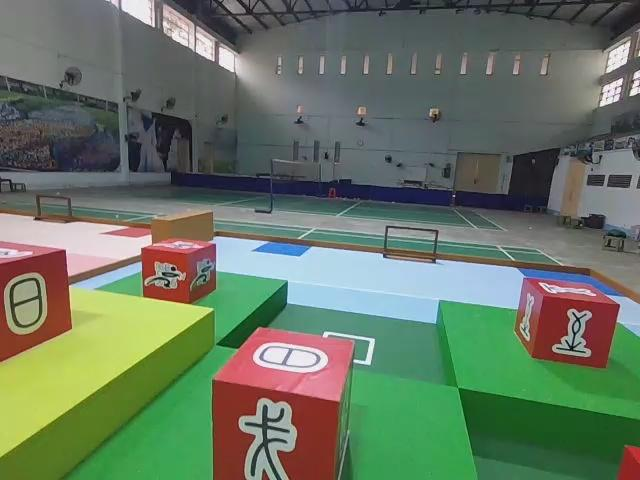R1: (142, 240, 217, 302)
R2 Fake: (209, 326, 355, 480), (0, 239, 73, 365)
R2 Real: (516, 276, 621, 368)
